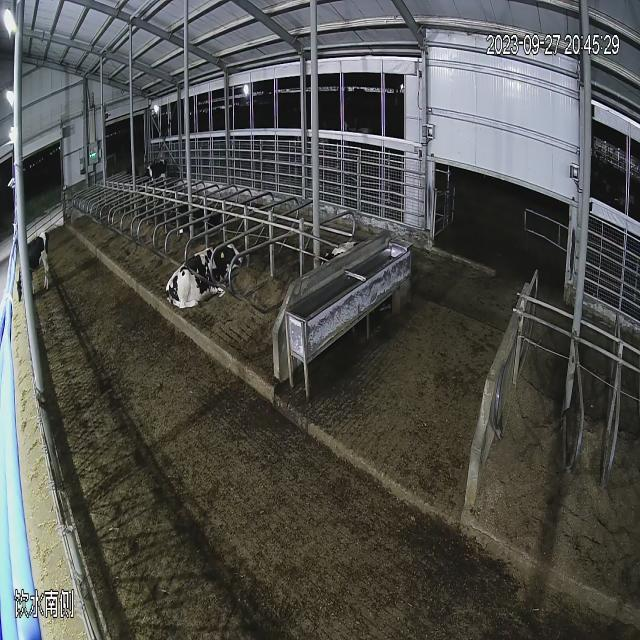feeding: (13, 232, 75, 326)
lying down: (164, 225, 256, 321)
standing: (135, 146, 209, 209)
